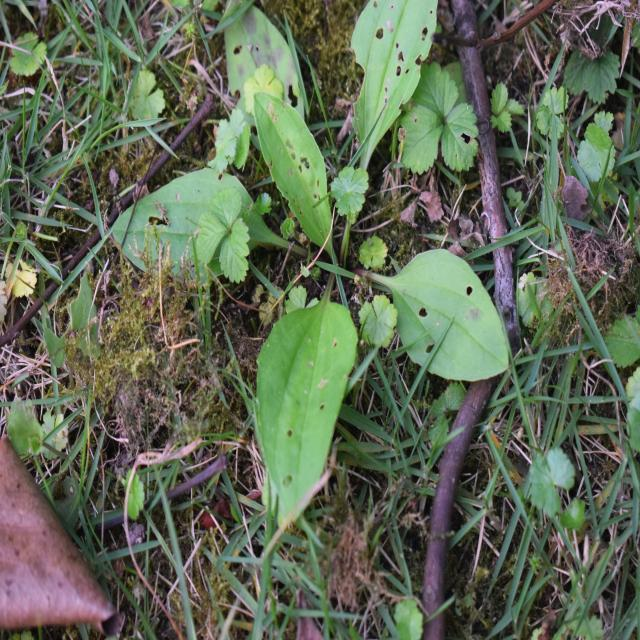plantain: (180, 64, 495, 468)
